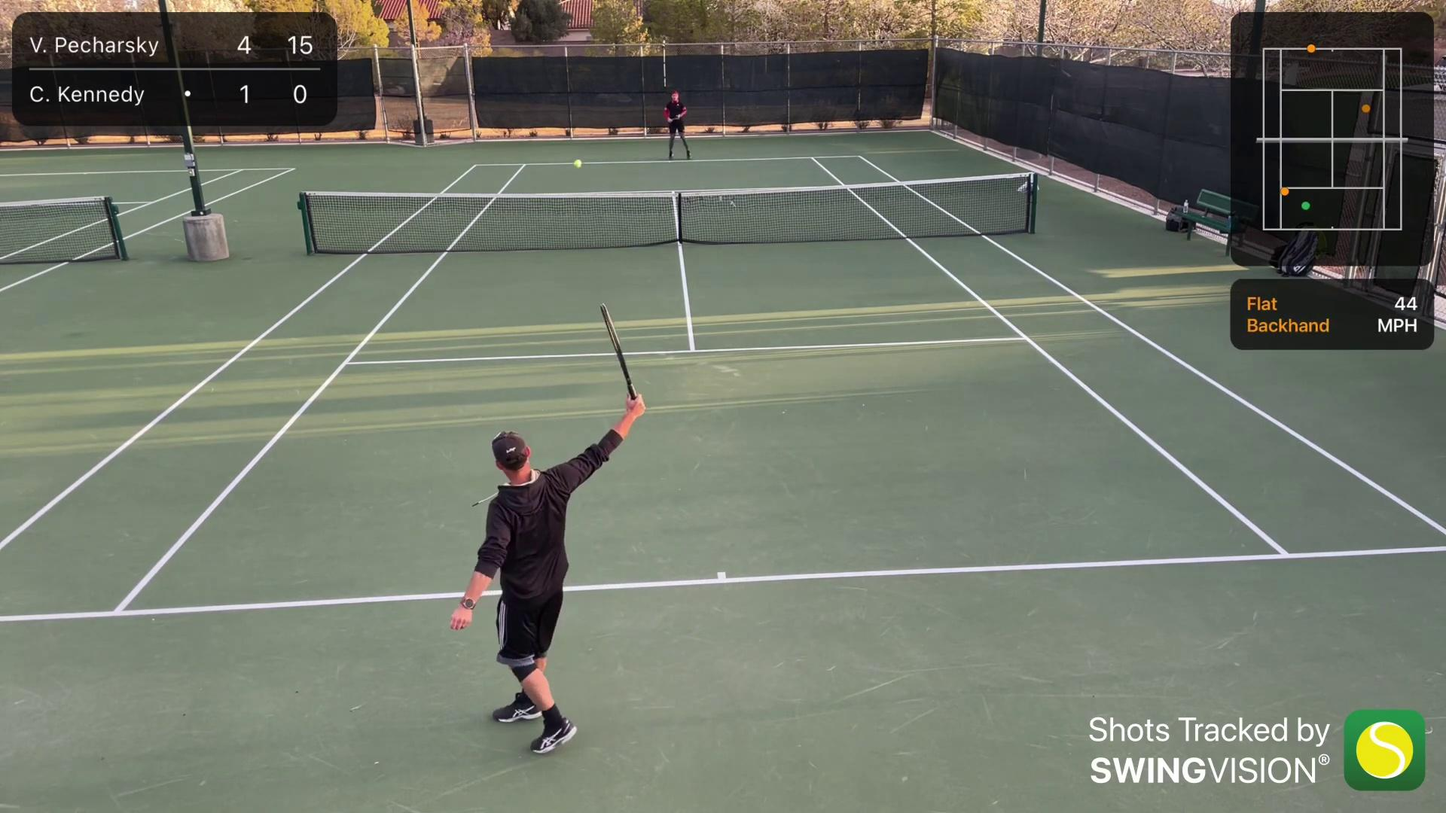ball: (572, 157, 583, 170)
